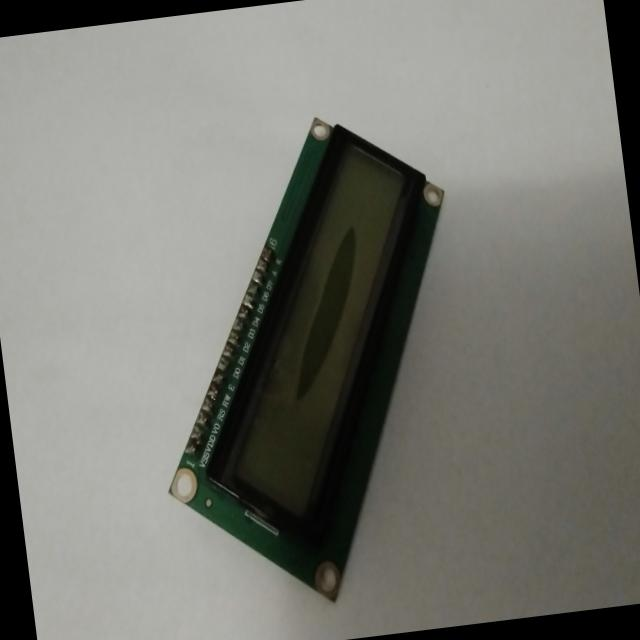lcd: (124, 100, 493, 621)
